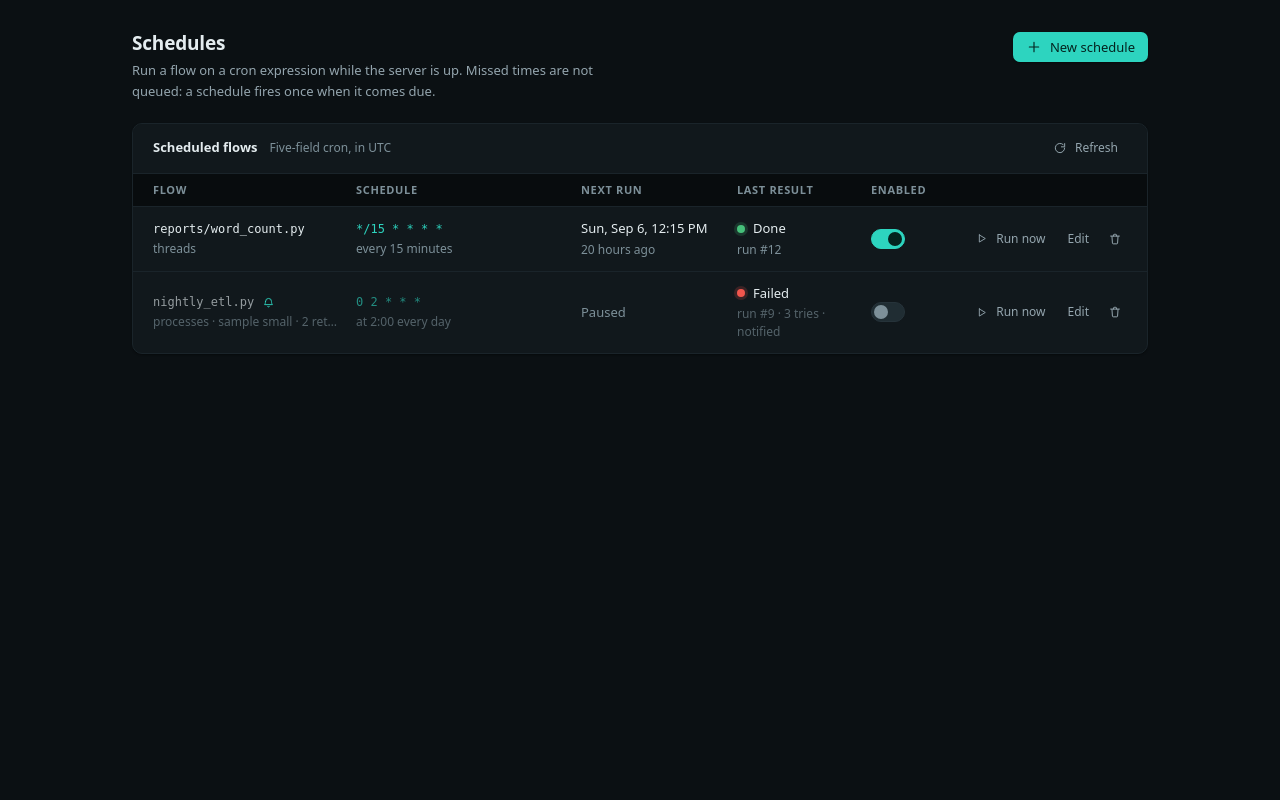
Test: the schedules page › asks before deleting, then deletes
Click the button named "Delete the schedule for reports/word_count.py" at (1114, 239), box x1=1102 y1=226 x2=1127 y2=251
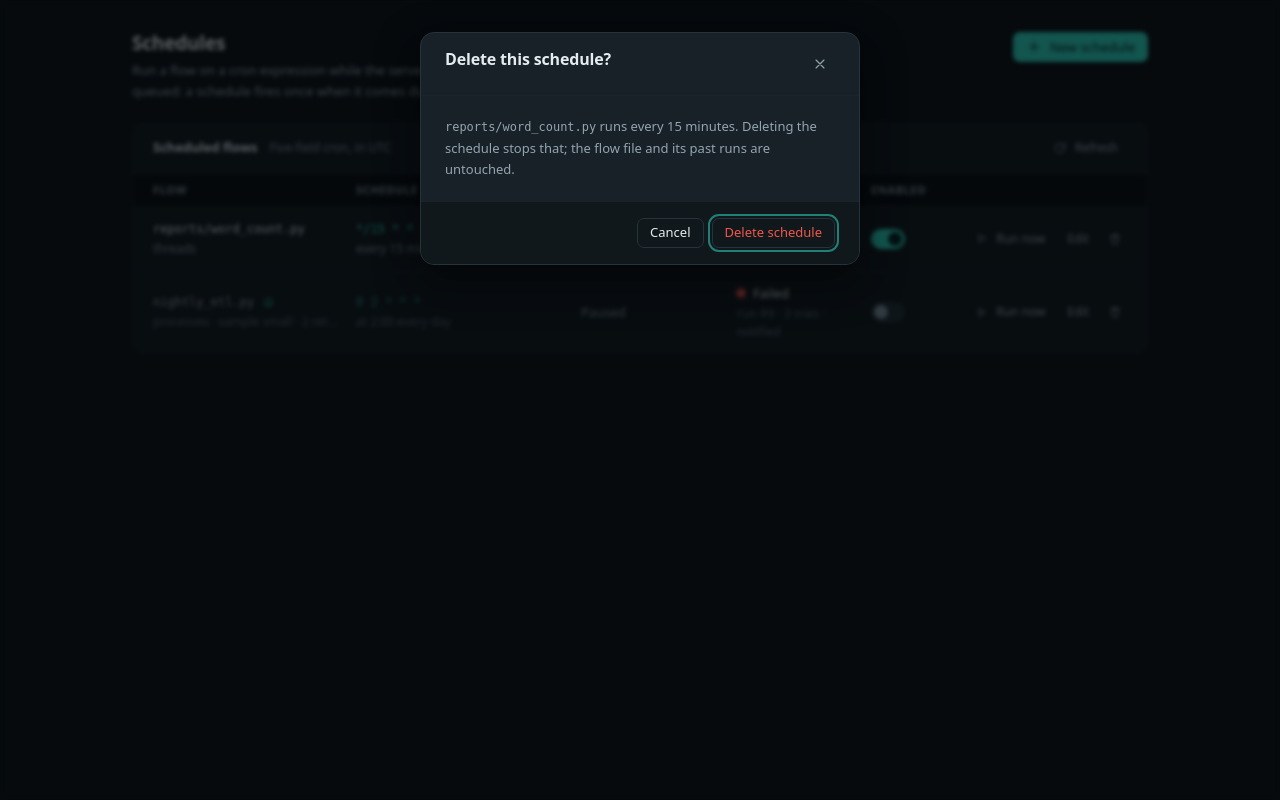
Click the button "Delete schedule" at (773, 233), box x1=712 y1=218 x2=835 y2=248
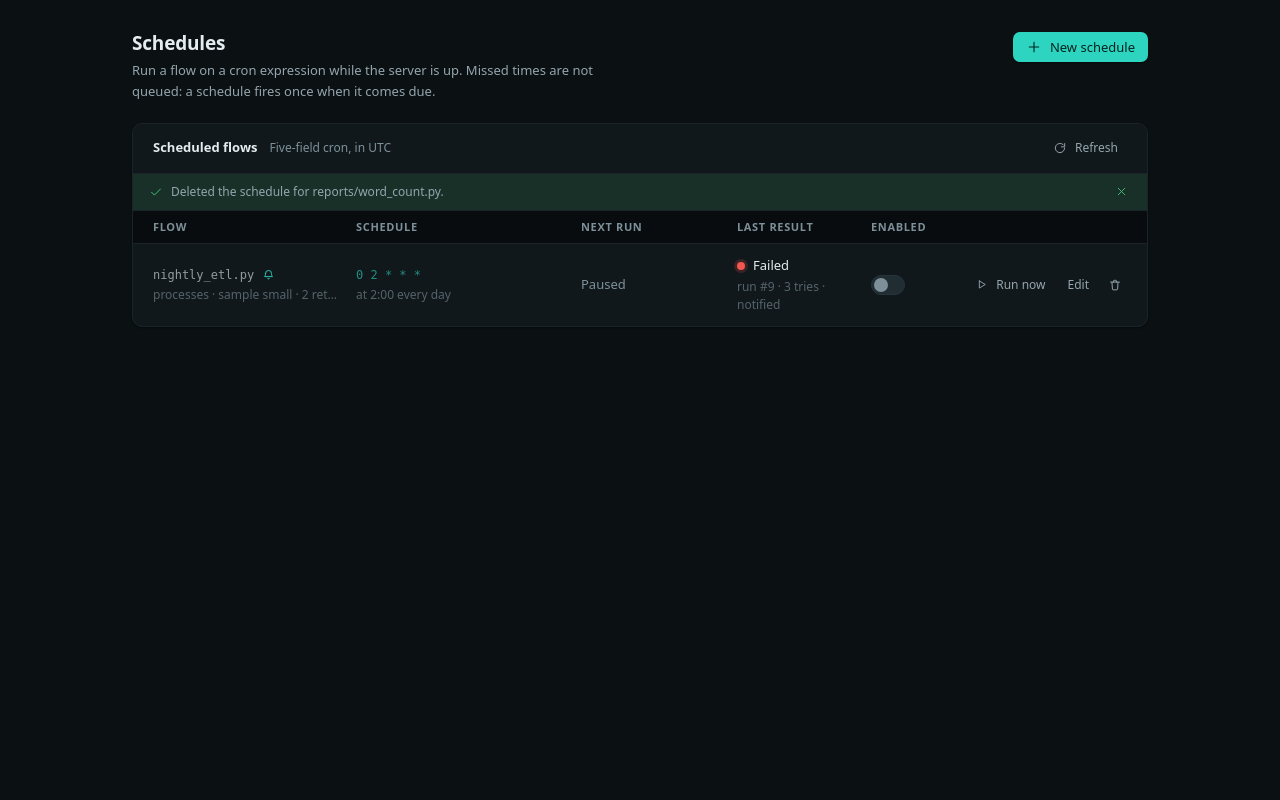
Expected: the text "nightly_etl.py" is shown, x1=153 y1=266 x2=254 y2=284
Expected: the dialog is gone
